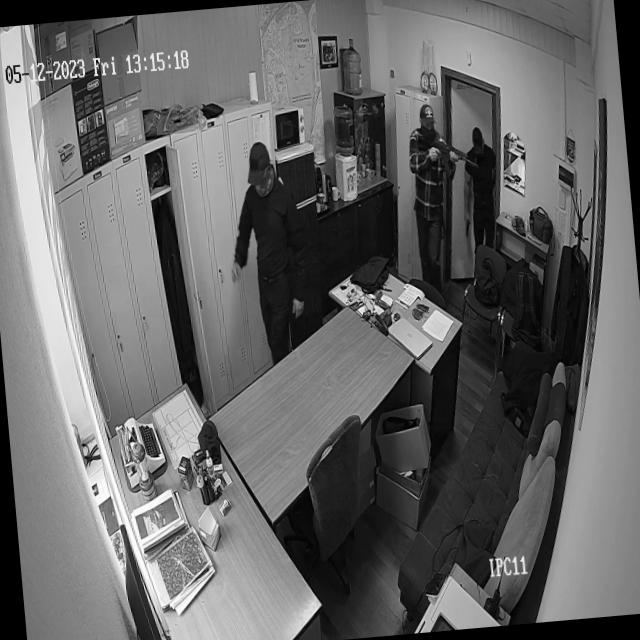gun: (431, 138, 477, 174), (460, 210, 474, 247)
person: (226, 141, 315, 382)
person with a gun: (404, 110, 488, 284), (454, 127, 504, 293)
